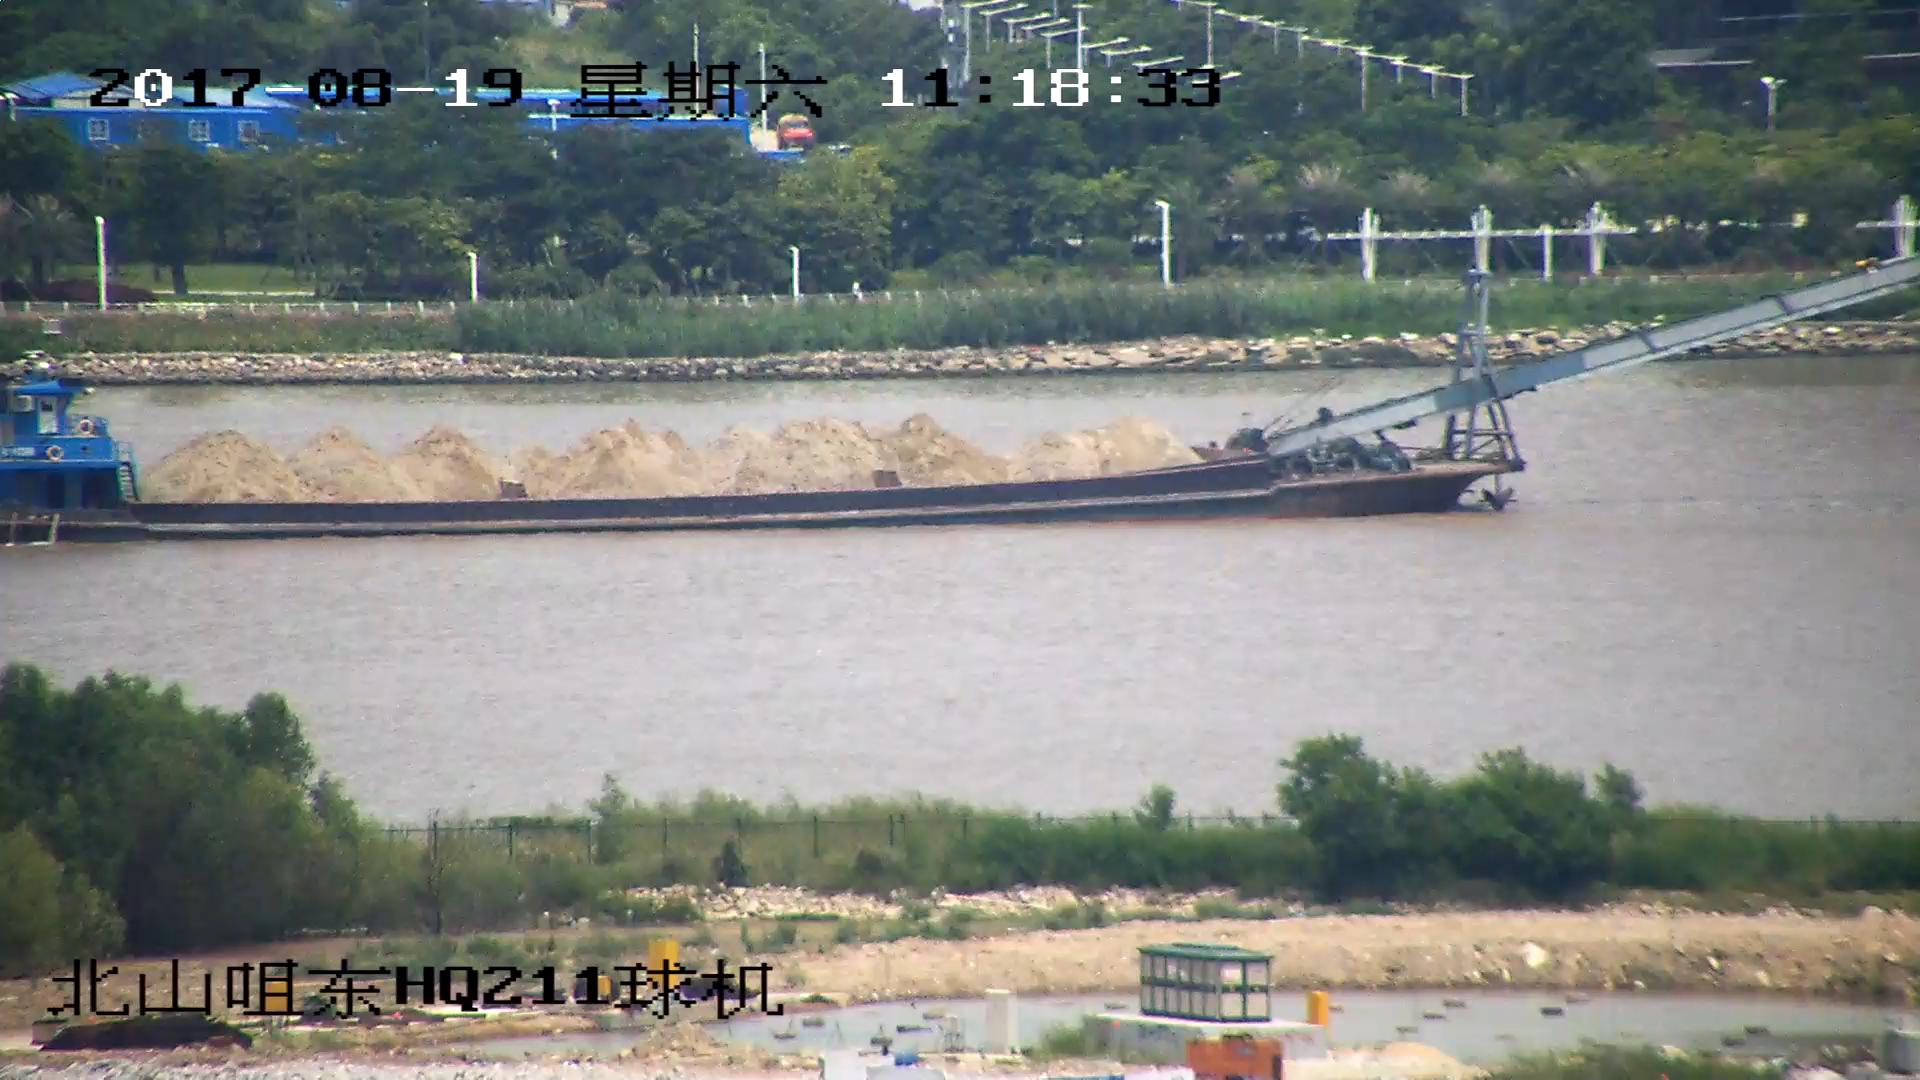ore carrier: (1, 255, 1920, 545)
